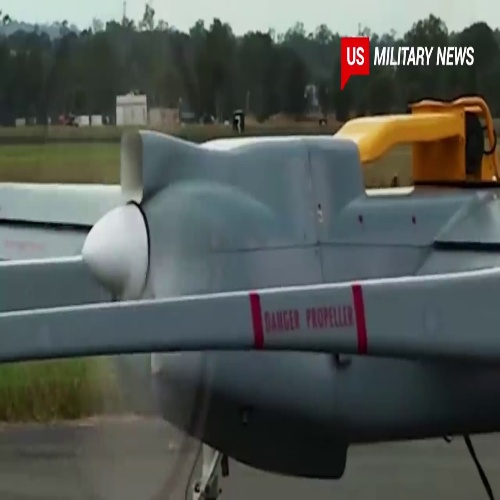uav419: (3, 137, 500, 480)
